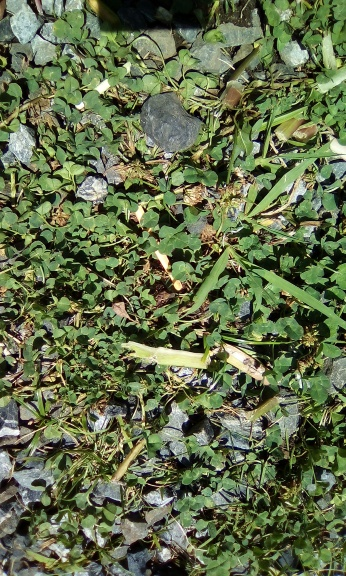4leaf: (157, 222, 189, 255)
